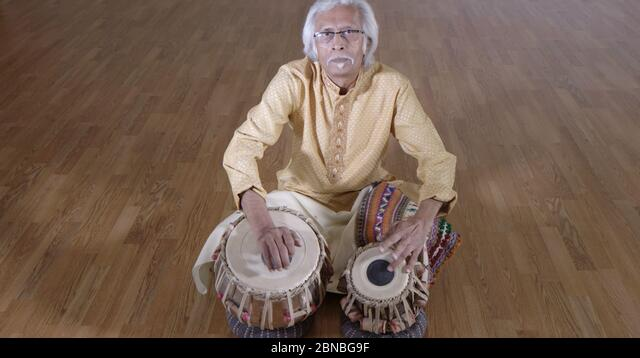tabla: (211, 210, 327, 330), (339, 242, 425, 328)
